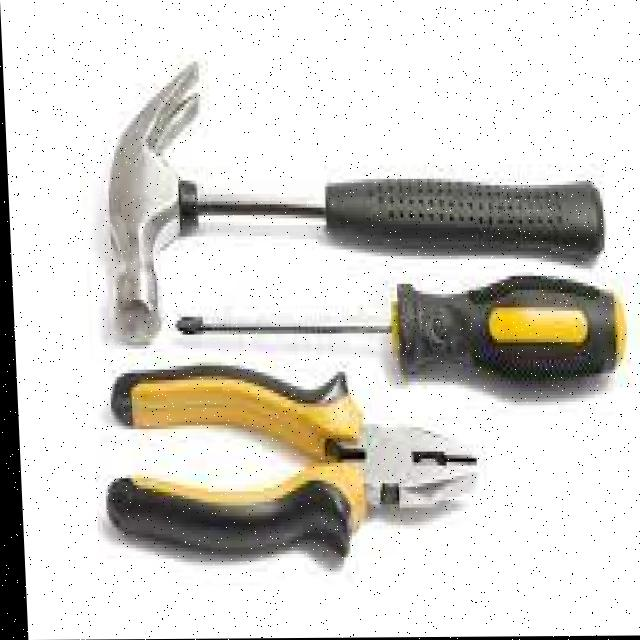Screwdriver: (174, 277, 622, 379)
